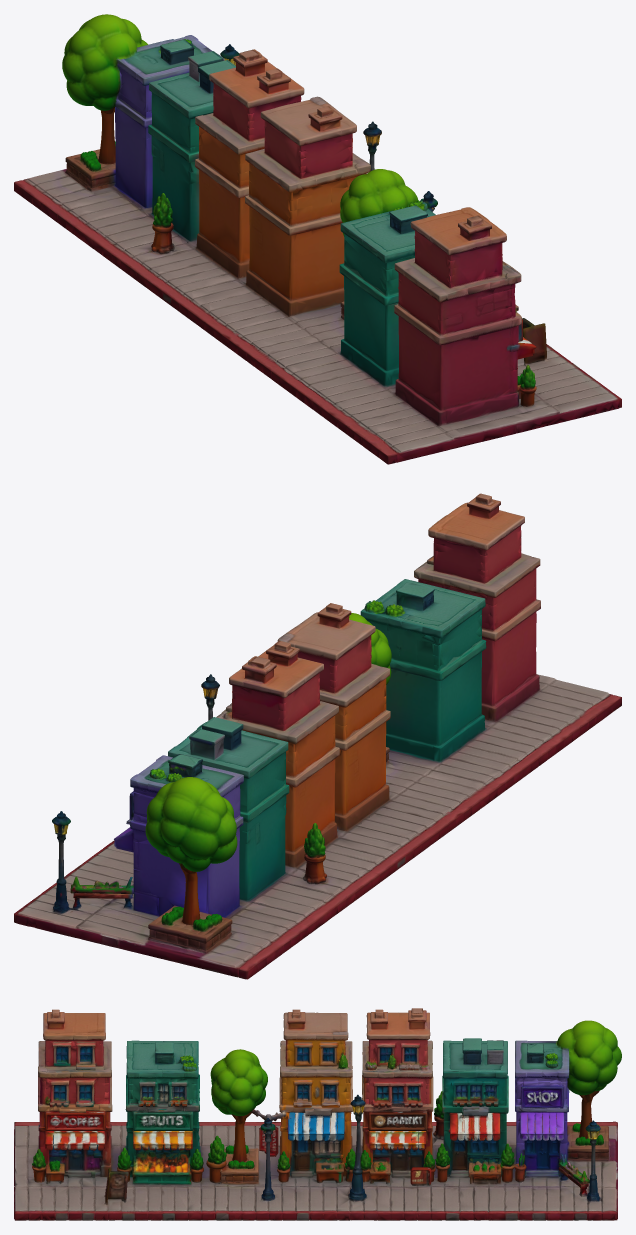
File: city.glb
3 renders of one model, top to bottom at view 1: azimuth 30°, elevation 25°; view 2: azimuth 150°, elevation 25°; view 3: azimuth 270°, elevation 25°, orthographic. The views are drawn at different scales.
Visible parts, largest first — view 1: tripo_node_1880cd5d-0905-4939-aaa9-dcb6a9be2d59; view 2: tripo_node_1880cd5d-0905-4939-aaa9-dcb6a9be2d59; view 3: tripo_node_1880cd5d-0905-4939-aaa9-dcb6a9be2d59.
Boxes of the visible parts, box(x1,y1,x2,y2) form: tripo_node_1880cd5d-0905-4939-aaa9-dcb6a9be2d59: box(14, 14, 621, 464); tripo_node_1880cd5d-0905-4939-aaa9-dcb6a9be2d59: box(14, 493, 621, 979); tripo_node_1880cd5d-0905-4939-aaa9-dcb6a9be2d59: box(14, 1008, 621, 1220).
Size of the model in its own units: 0.3518 by 0.2882 by 0.9801.
1 material, 1 textured.
